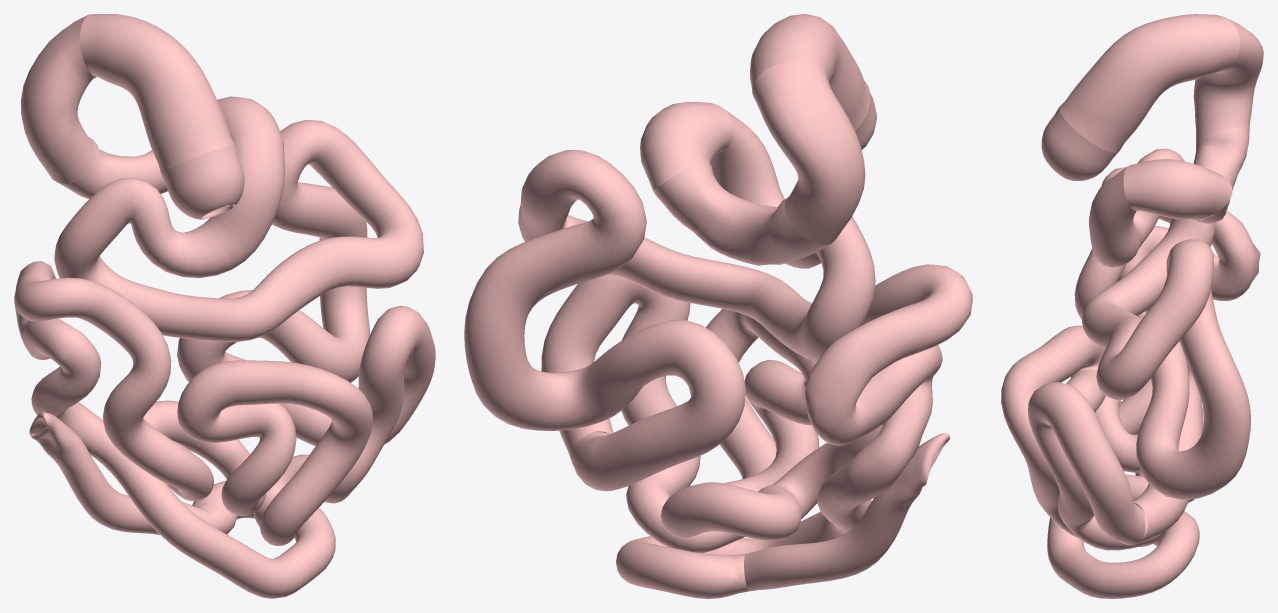
Rendered from gut_small.glb.
The picture shows the model from 3 angles, left to right: view 1: azimuth 30°, elevation 25°; view 2: azimuth 150°, elevation 25°; view 3: azimuth 270°, elevation 25°; orthographic projection. The views are drawn at different scales.
Parts seen in each view (by area): view 1: VH_F_duodenum_superior; view 2: VH_F_duodenum_superior; view 3: VH_F_duodenum_superior.
Boxes of the visible parts, x1=… form: VH_F_duodenum_superior: x1=14, y1=14, x2=435, y2=598; VH_F_duodenum_superior: x1=464, y1=14, x2=972, y2=598; VH_F_duodenum_superior: x1=1001, y1=14, x2=1263, y2=598.
Size of the model in its own units: 0.1616 by 0.2172 by 0.1.
